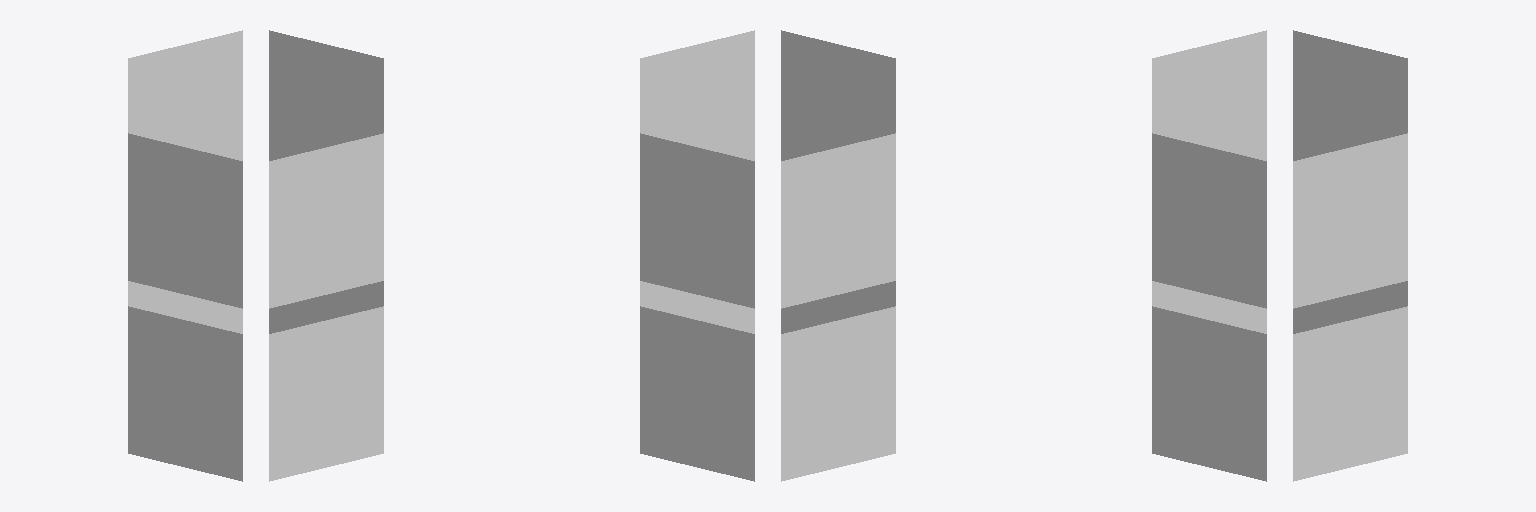
The picture shows the model from 3 angles: view 1: azimuth 30°, elevation 25°; view 2: azimuth 150°, elevation 25°; view 3: azimuth 270°, elevation 25°; orthographic projection.
Visible parts, largest first — view 1: prism_invert_0.002, prism_invert_0.003, prism_0.002, prism_0.003, prism_invert_0, prism_invert_0.005, prism_0.005, prism_0; view 2: prism_invert_0.001, prism_invert_0, prism_0, prism_0.001, prism_invert_0.004, prism_invert_0.003, prism_0.003, prism_0.004; view 3: prism_invert_0.004, prism_invert_0.005, prism_0.004, prism_0.005, prism_invert_0.002, prism_invert_0.001, prism_0.001, prism_0.002.
Boxes of the visible parts, <box> form: prism_invert_0.002: <box>128,133,242,308</box>; prism_invert_0.003: <box>269,133,383,308</box>; prism_0.002: <box>128,306,242,481</box>; prism_0.003: <box>269,306,383,481</box>; prism_invert_0: <box>128,30,242,160</box>; prism_invert_0.005: <box>269,30,383,160</box>; prism_0.005: <box>269,281,383,333</box>; prism_0: <box>128,281,242,333</box>; prism_invert_0.001: <box>781,133,895,308</box>; prism_invert_0: <box>640,133,754,308</box>; prism_0: <box>640,306,754,481</box>; prism_0.001: <box>781,306,895,481</box>; prism_invert_0.004: <box>640,30,754,160</box>; prism_invert_0.003: <box>781,30,895,160</box>; prism_0.003: <box>781,281,895,333</box>; prism_0.004: <box>640,281,754,333</box>; prism_invert_0.004: <box>1152,133,1266,308</box>; prism_invert_0.005: <box>1293,133,1407,308</box>; prism_0.004: <box>1152,306,1266,481</box>; prism_0.005: <box>1293,306,1407,481</box>; prism_invert_0.002: <box>1152,30,1266,160</box>; prism_invert_0.001: <box>1293,30,1407,160</box>; prism_0.001: <box>1293,281,1407,333</box>; prism_0.002: <box>1152,281,1266,333</box>.
Bounding box in the file's own units: 2.2 × 2.51 × 2.
12 materials, 1 textured.